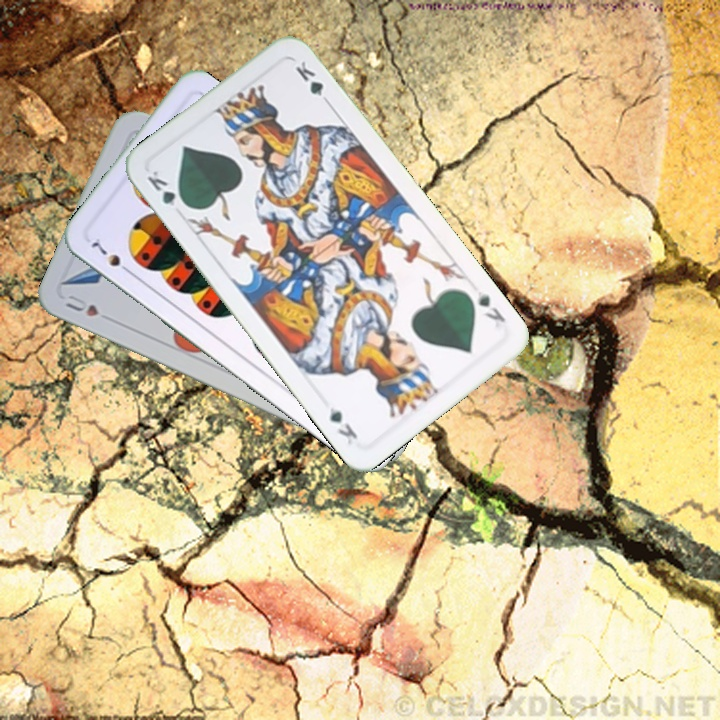GK: (143, 166, 191, 211), (473, 286, 508, 325)
HU: (61, 290, 102, 320)
S7: (87, 234, 135, 278)
